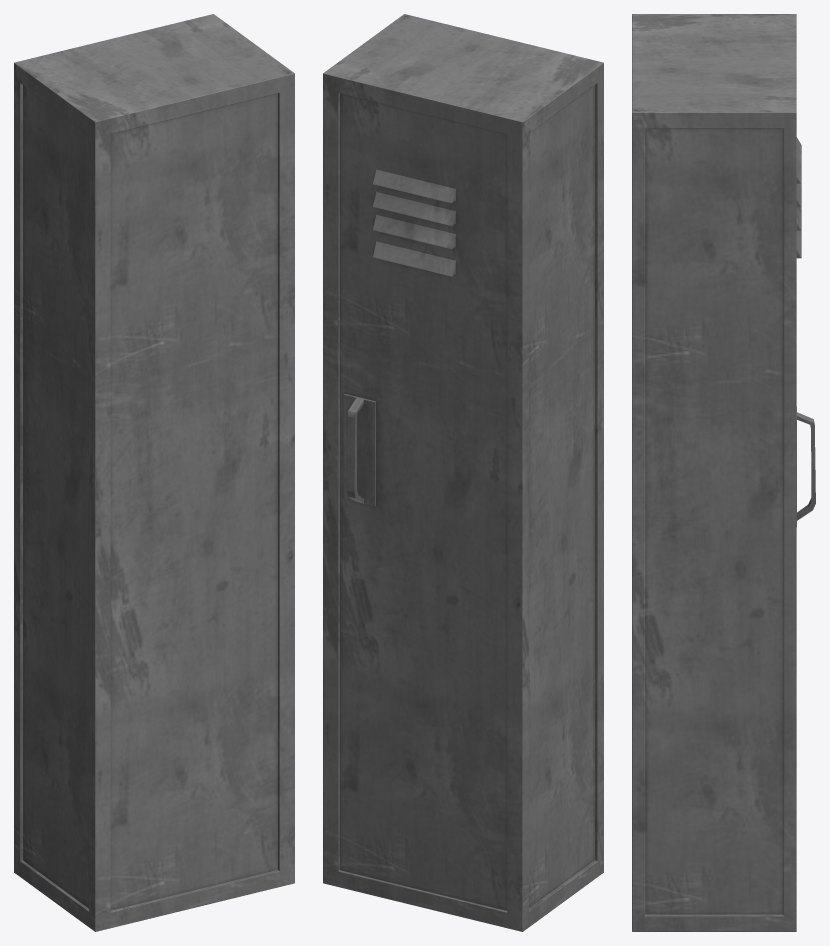
File: gym_locker.glb
The picture shows the model from 3 angles, left to right: view 1: azimuth 30°, elevation 25°; view 2: azimuth 150°, elevation 25°; view 3: azimuth 270°, elevation 25°; orthographic projection.
Visible parts, largest first — view 1: polySurface2; view 2: polySurface2; view 3: polySurface2.
Boxes of the visible parts, left/top/right/bottom form: polySurface2: left=14, top=14, right=294, bottom=931; polySurface2: left=323, top=14, right=603, bottom=931; polySurface2: left=632, top=14, right=815, bottom=931.
Bounding box in the file's own units: 0.0286 × 0.1109 × 0.0225.
Materials: 1 (1 with a texture image).
